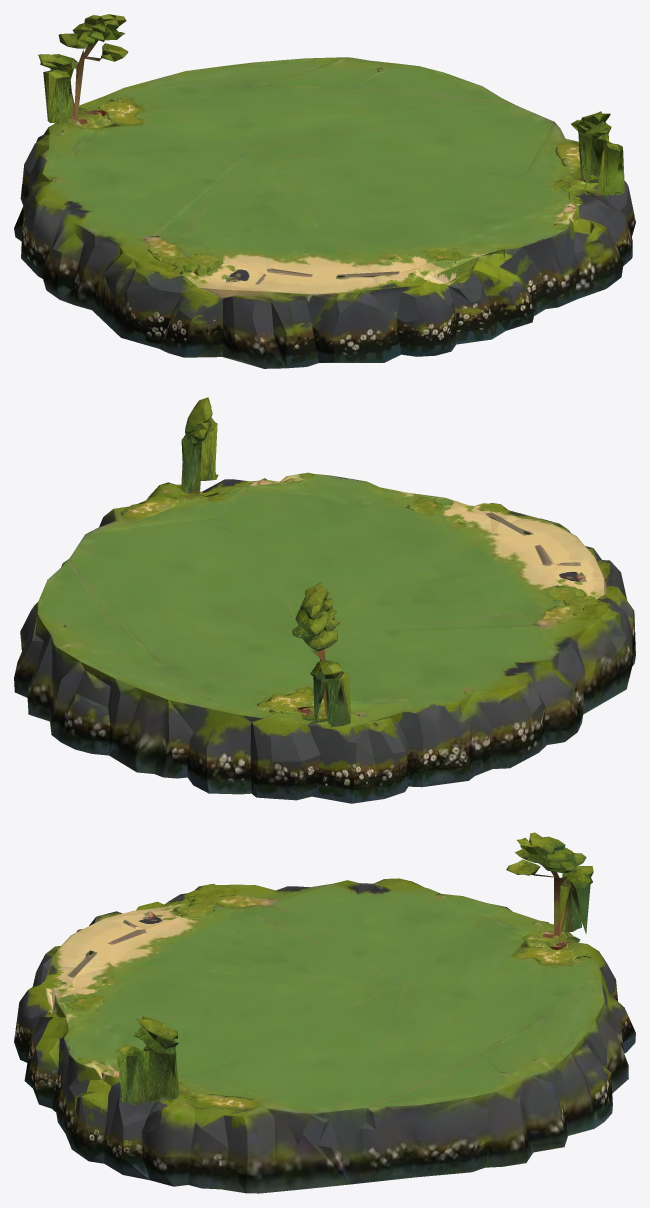
File: island.glb
3 views of the same model, one above another, from view 1: azimuth 30°, elevation 25°; view 2: azimuth 150°, elevation 25°; view 3: azimuth 270°, elevation 25° (orthographic). The views are drawn at different scales.
Parts seen in each view (by area): view 1: island; view 2: island; view 3: island.
Boxes of the visible parts, x1,y1,x2,y2 form: island: (14,14,635,368); island: (14,397,635,803); island: (14,832,635,1193).
Bounding box in the file's own units: 1.85 × 0.6012 × 1.9.
Materials: 1 (1 with a texture image).
